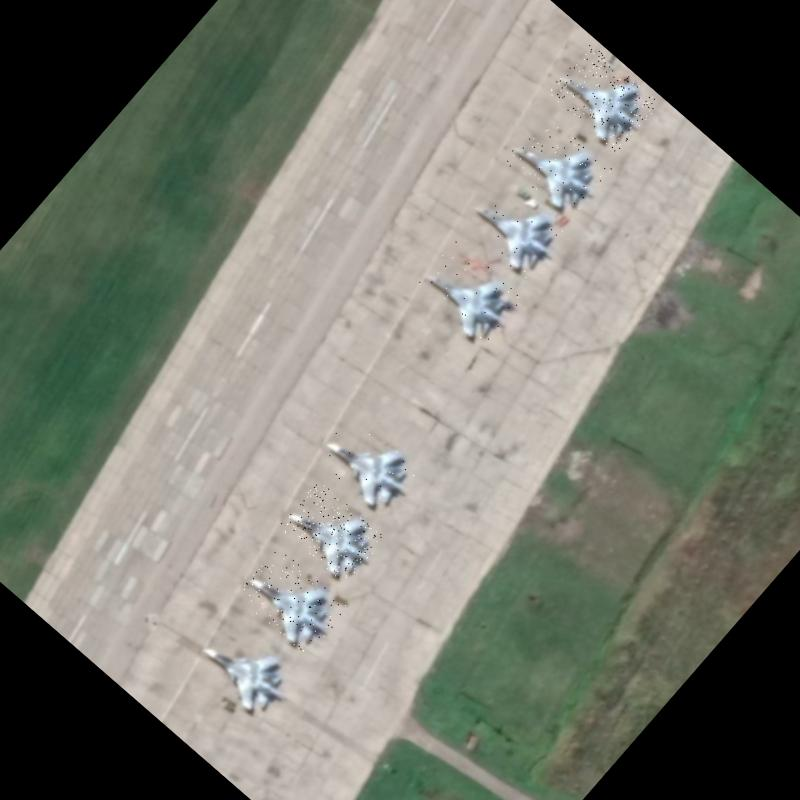A1: (547, 43, 660, 154), (501, 112, 614, 222), (413, 239, 525, 349), (461, 172, 572, 281)
A19: (190, 614, 303, 726), (235, 546, 349, 657), (314, 410, 424, 519), (278, 480, 386, 585)
